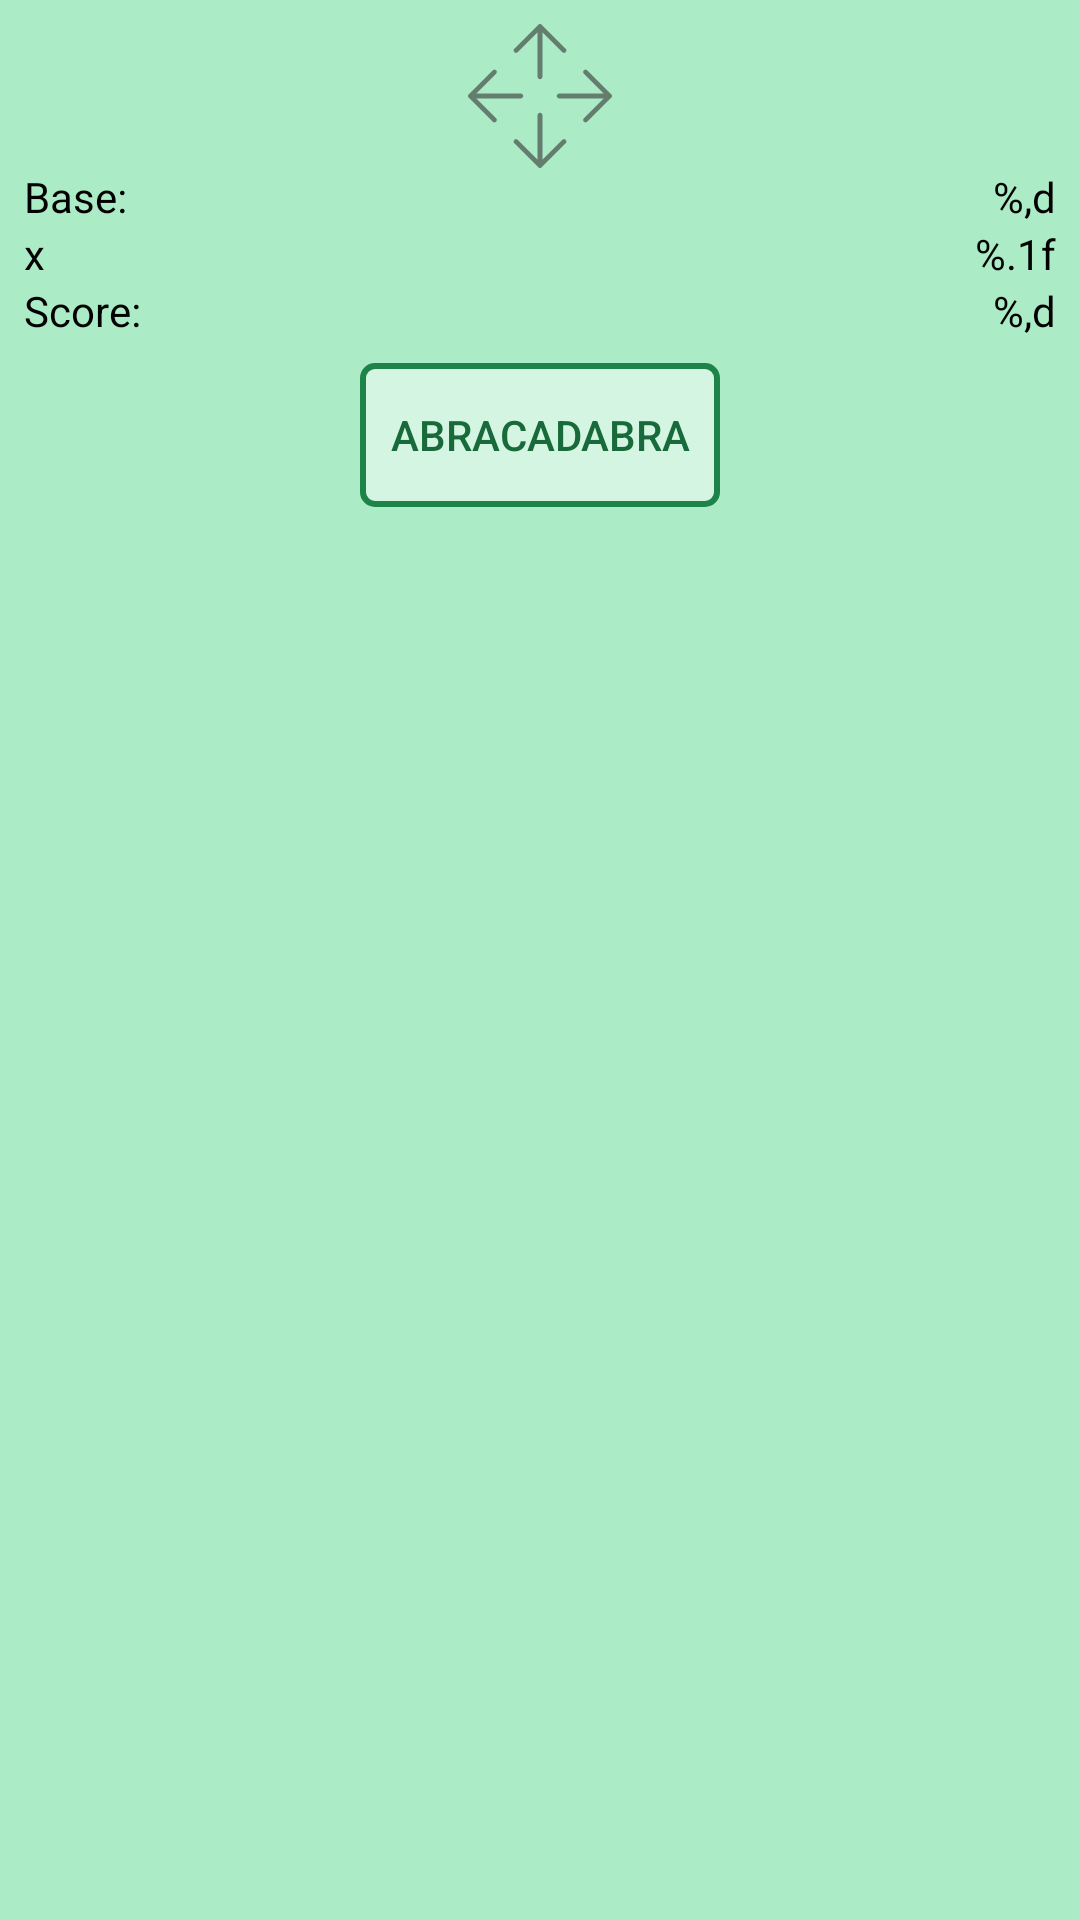

Locate icon controls on the screen. Image size 1080w x 1920h, boxes as detection(x1, y1, x2, y2).
Icon to move widget: detection(468, 24, 612, 168)
